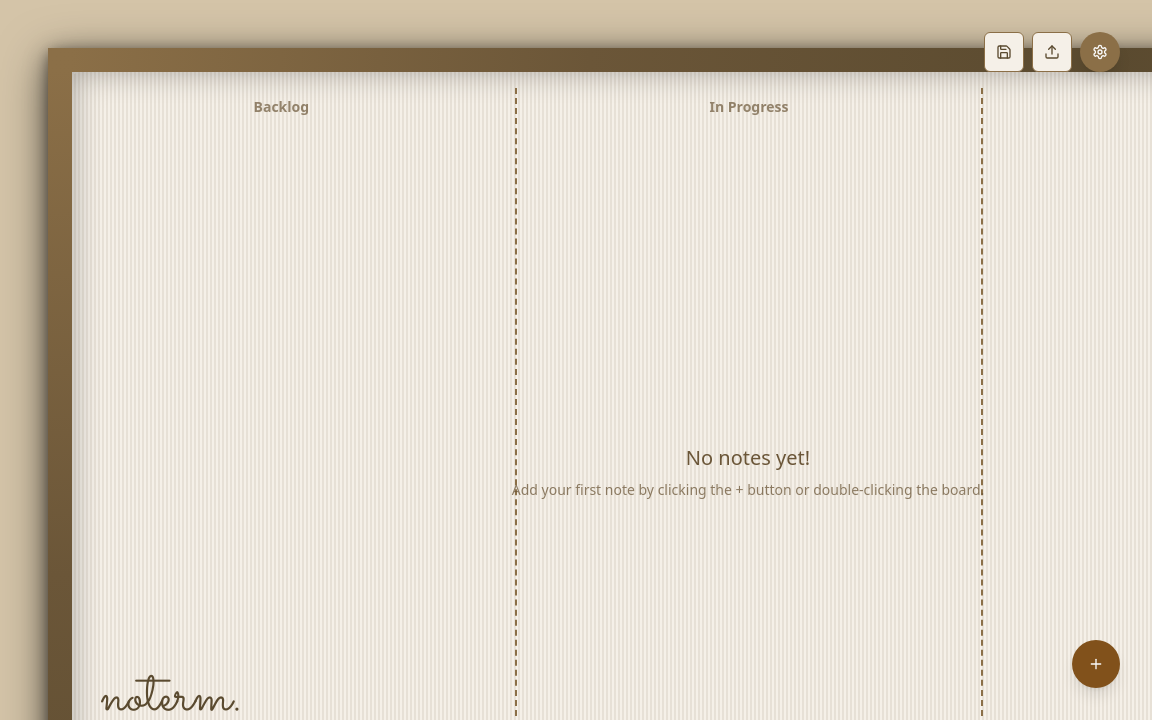
Test case: Index page › Swimlanes › should cancel editing swimlane label on Escape key
This screenshot has width=1152, height=720.
Double-click the text "Backlog".
double_click(281, 106)  # box [254, 97, 309, 116]
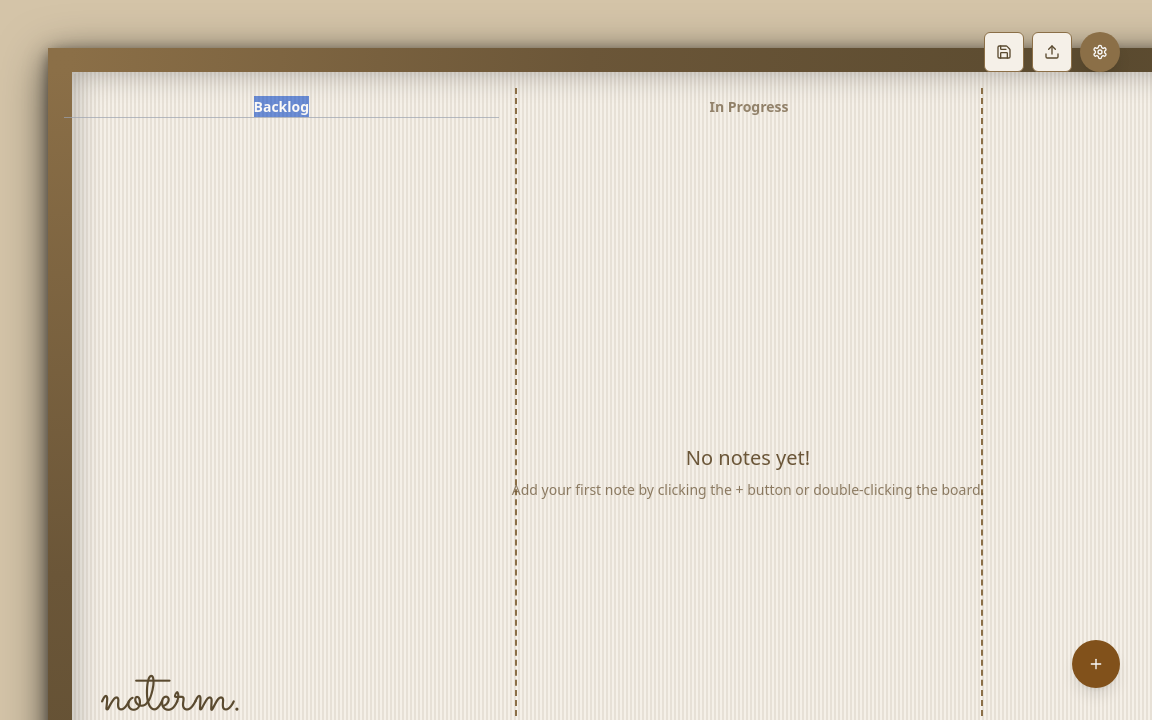
Replace the text in the field showing "Backlog" with "Changed Label" at (281, 107), box [64, 96, 499, 118]
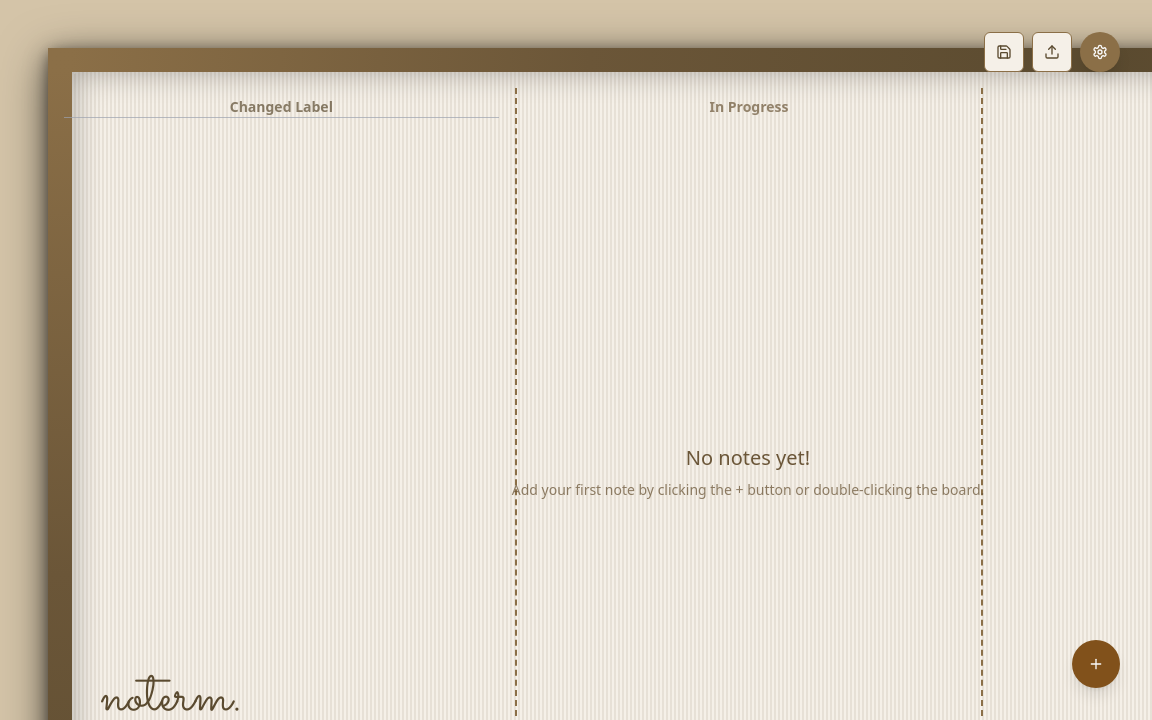
Press Escape in the field showing "Backlog", box [64, 96, 499, 118]
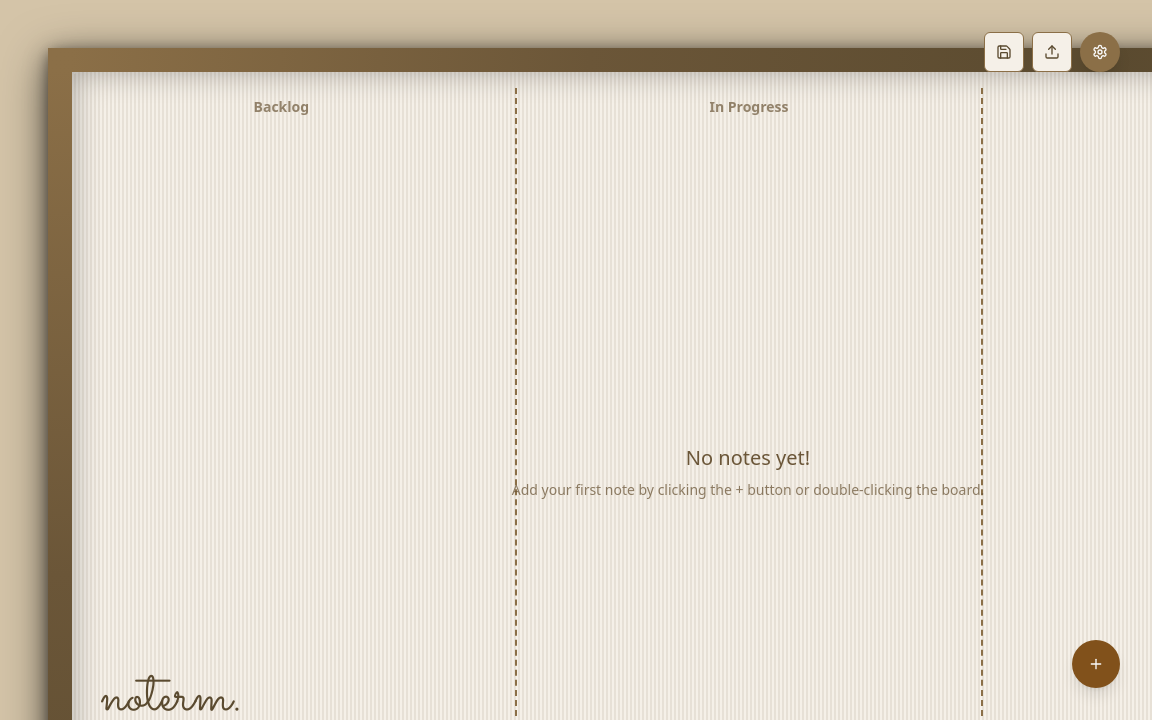
Expected: the text "Changed Label" is not shown
Now the text "Backlog" is shown, box [254, 97, 309, 116]
